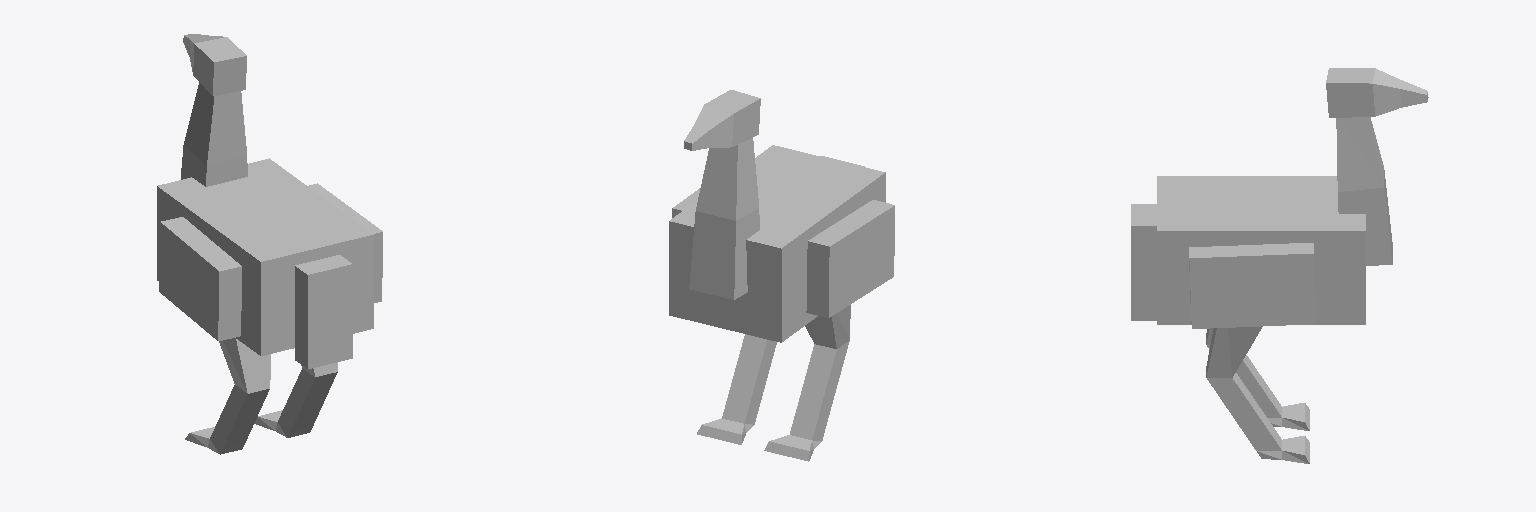
File: Ostrich_000036.obj
3 views of the same model, side by side, from view 1: azimuth 30°, elevation 25°; view 2: azimuth 150°, elevation 25°; view 3: azimuth 270°, elevation 25° (orthographic).
Parts seen in each view (by area): view 1: Cube_Cube.001; view 2: Cube_Cube.001; view 3: Cube_Cube.001.
Part boxes in pixels (x1,y1,x2,y2): Cube_Cube.001: (157, 34, 382, 454); Cube_Cube.001: (669, 90, 894, 461); Cube_Cube.001: (1131, 68, 1428, 463).
Size of the model in its own units: 0.7277 by 1.53 by 1.14.